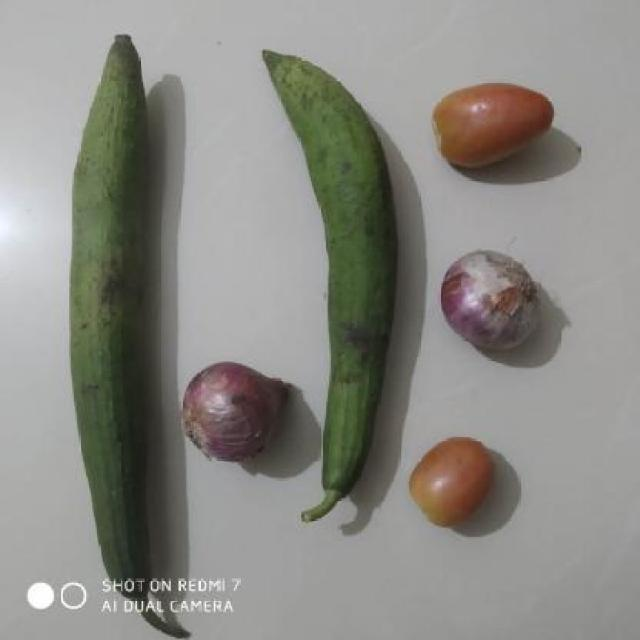Onion: (432, 246, 560, 362), (185, 362, 292, 468)
Sponge Gourd: (46, 18, 176, 576), (284, 30, 410, 528)
Tomato: (416, 64, 578, 178), (404, 426, 510, 542)
